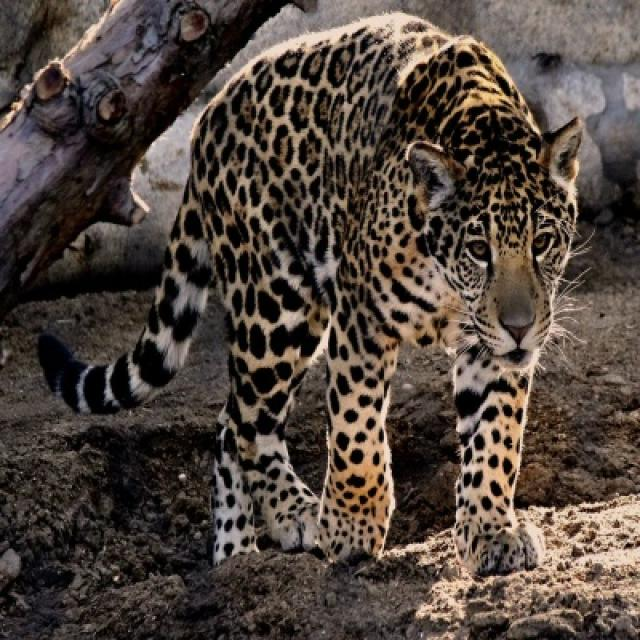Jaguar: (37, 13, 584, 581)
